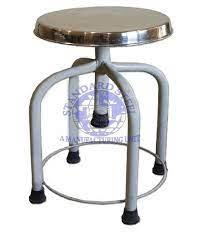stool: (28, 5, 172, 224)
